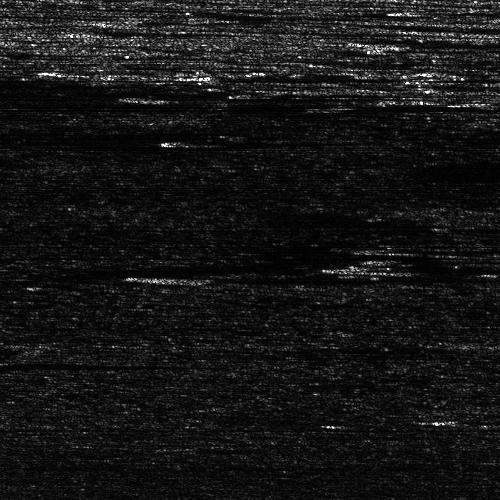object: (149, 66, 264, 85), (306, 262, 399, 273), (133, 274, 226, 283), (154, 137, 227, 144), (121, 94, 184, 101), (354, 247, 417, 252), (413, 416, 476, 421), (93, 29, 146, 34)
shadow: (207, 66, 377, 85), (180, 274, 457, 283), (0, 361, 214, 370), (353, 262, 448, 273), (191, 137, 276, 144), (153, 94, 236, 101), (386, 247, 481, 252), (120, 29, 203, 34), (444, 416, 500, 421)
